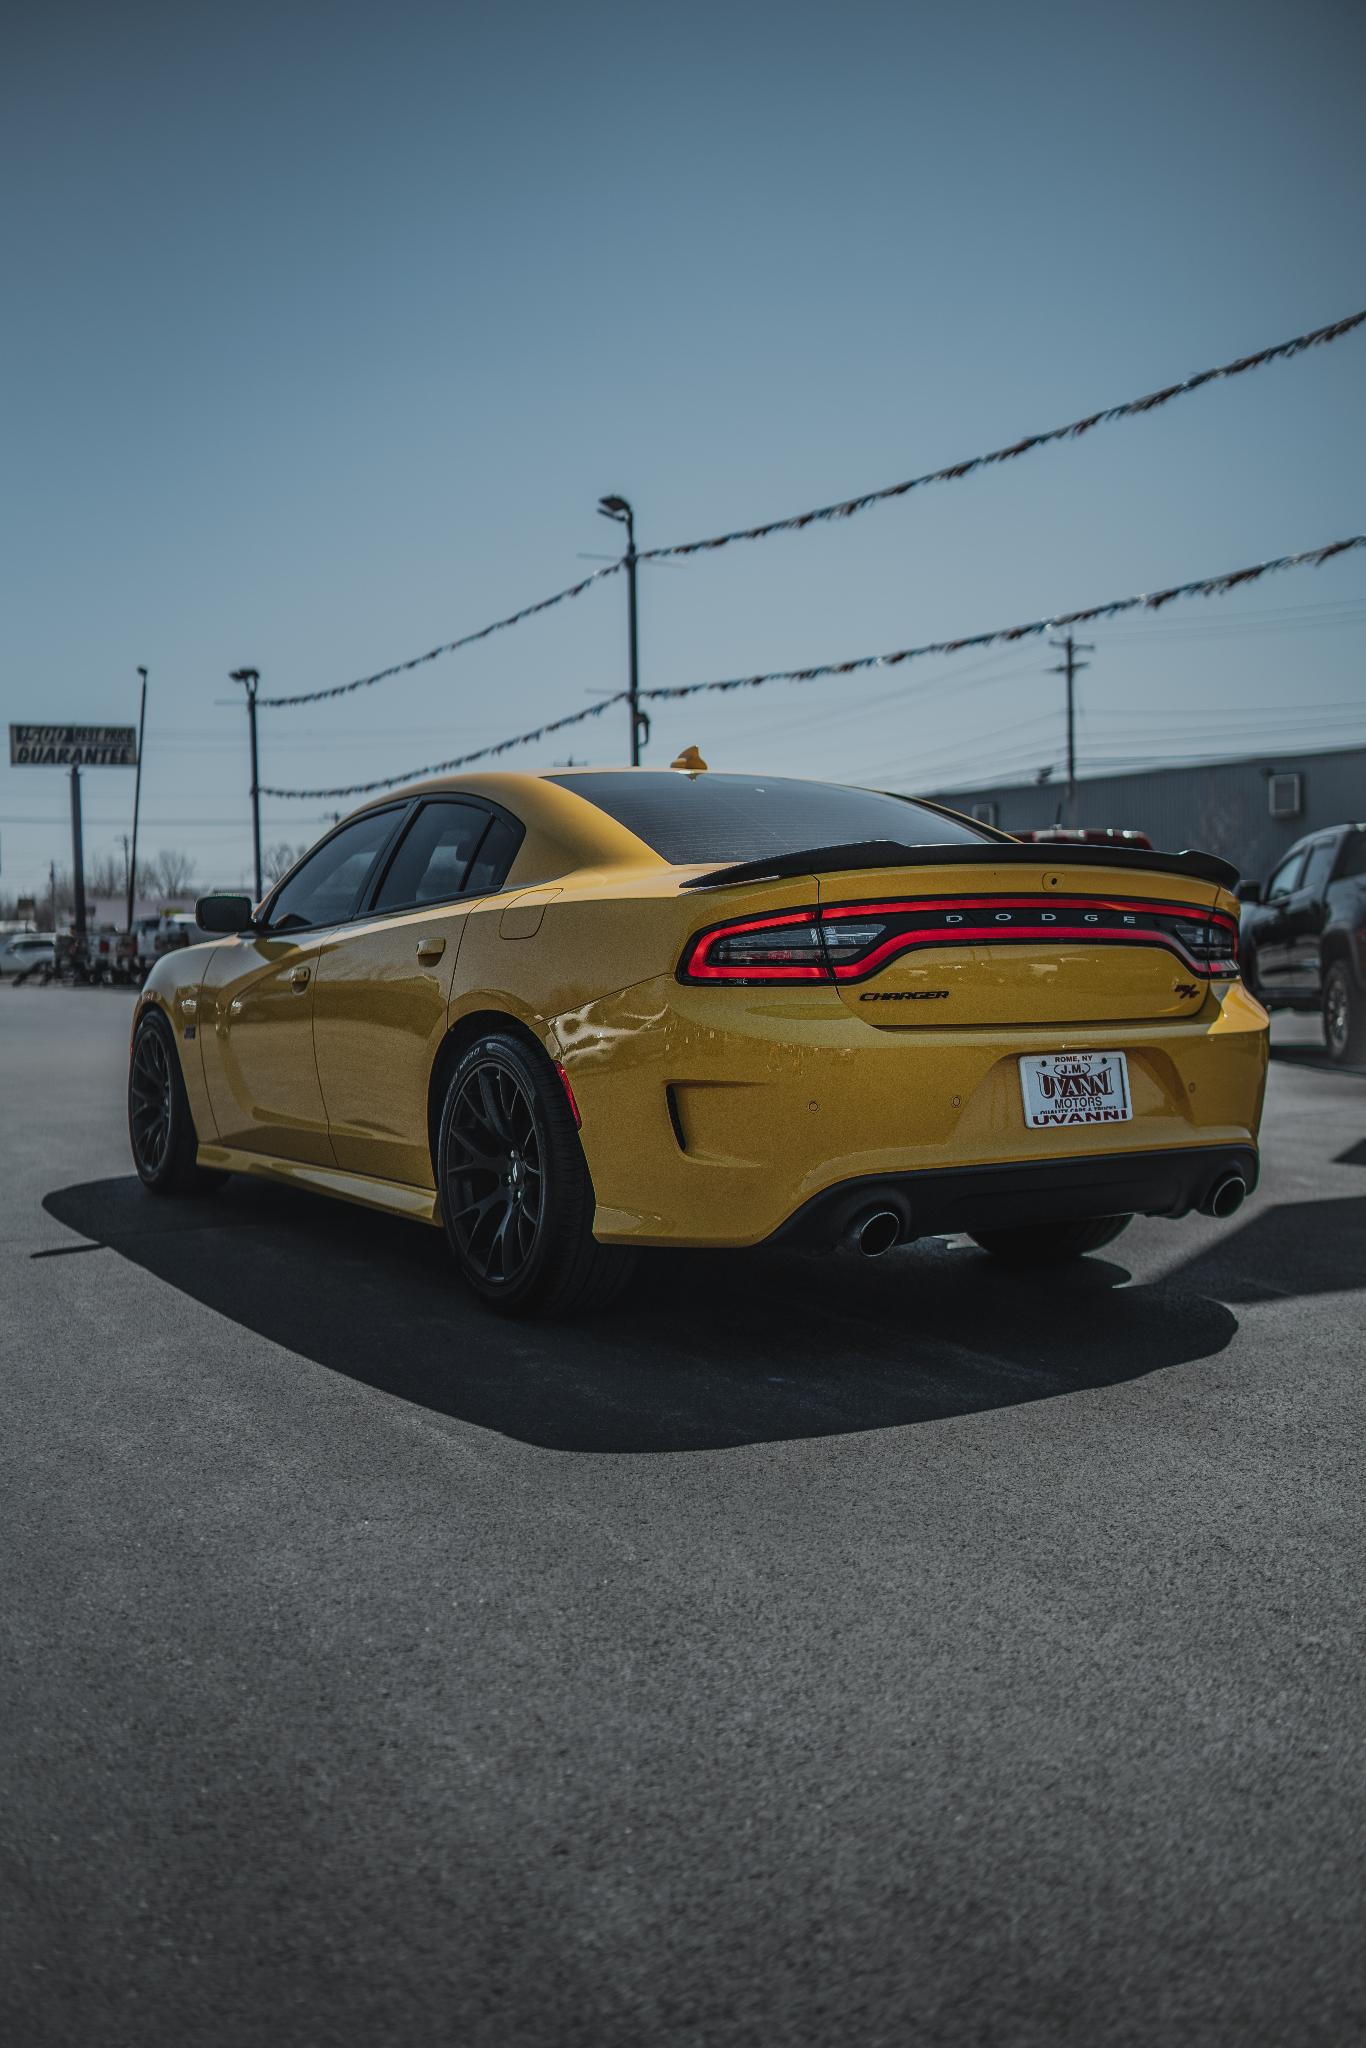dodge: (936, 902, 1148, 934)
